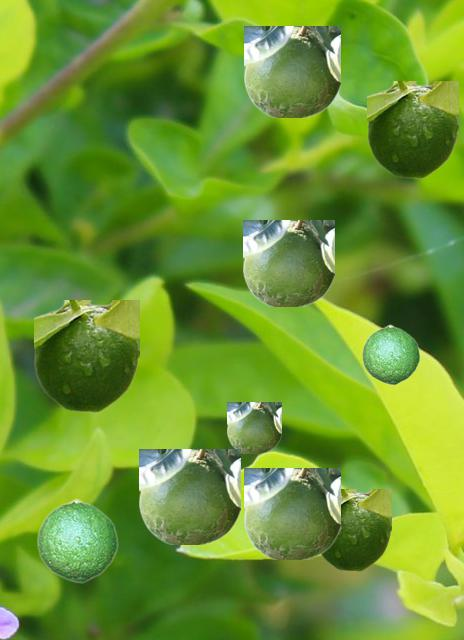dalandan: (34, 300, 138, 411), (139, 449, 239, 543), (367, 81, 457, 177), (244, 26, 339, 116), (244, 468, 339, 558), (243, 220, 333, 305), (36, 498, 117, 582), (321, 489, 390, 570), (361, 324, 419, 384), (227, 402, 280, 452)
